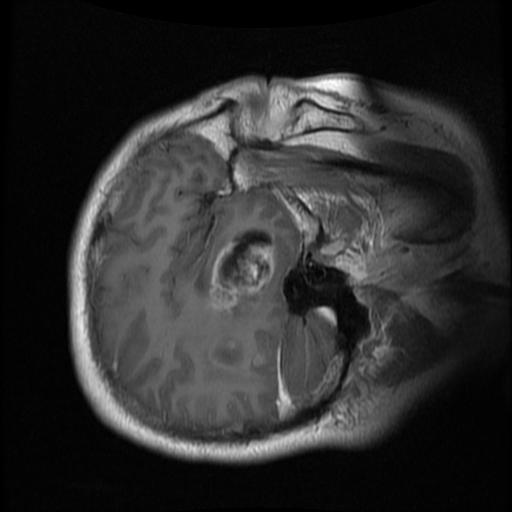glioma: (209, 224, 275, 320)
